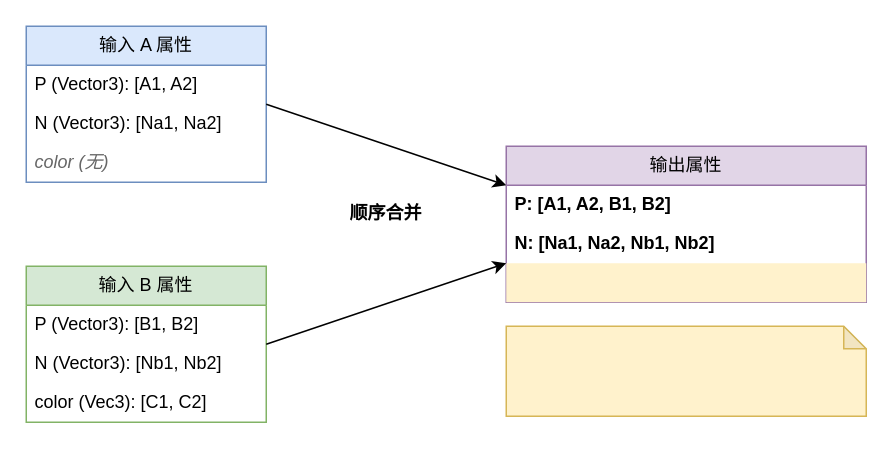
This 893x449 diagram has some shape labels left out. Each missing label, with the centre of its shape:
color: [C1, C2]: (x=686, y=282)
属性会被严格追加。 如果前置输入缺少某属性， 该属性将从空开始（导致错位）。: (x=685, y=370)
